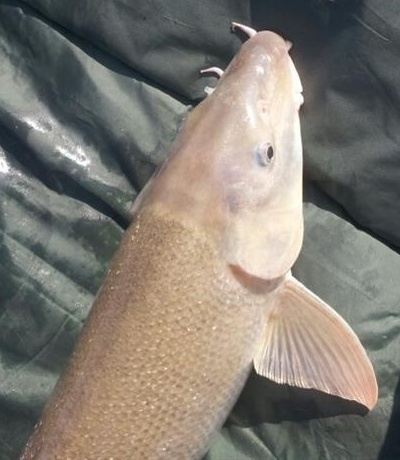Barbus barbus: (20, 20, 380, 460)
